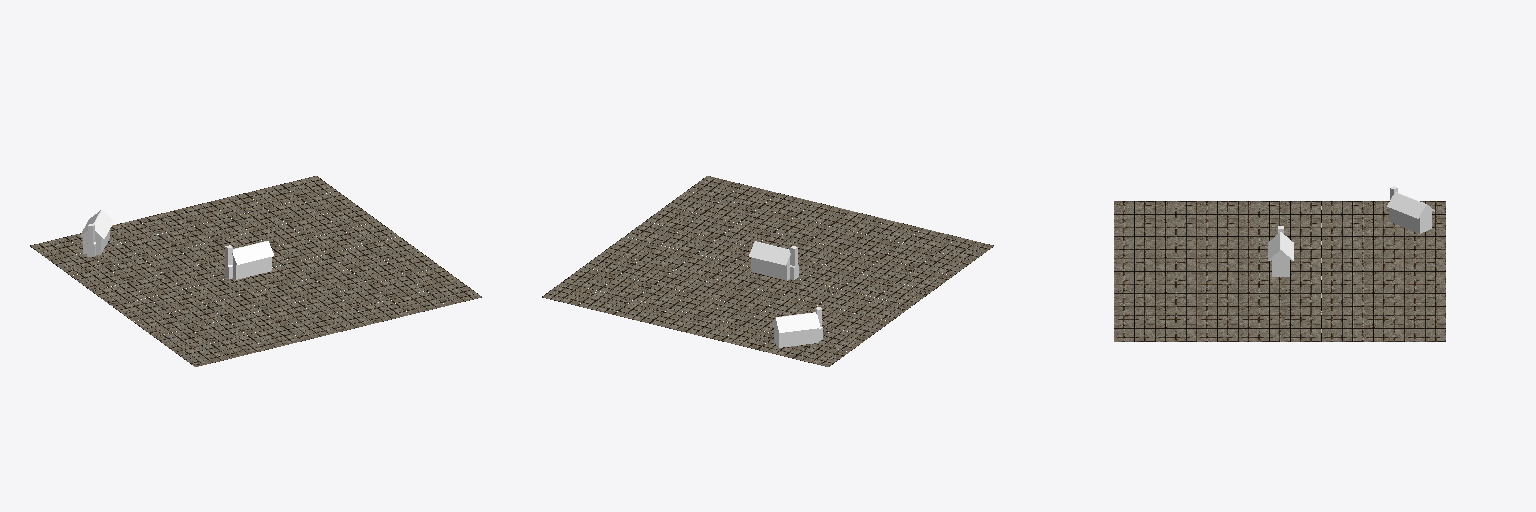
3 renders of one model, left to right at view 1: azimuth 30°, elevation 25°; view 2: azimuth 150°, elevation 25°; view 3: azimuth 270°, elevation 25°, orthographic.
Parts seen in each view (by area): view 1: mesh01, mesh00, mesh02; view 2: mesh01, mesh02, mesh00; view 3: mesh01, mesh02, mesh00.
Boxes of the visible parts, x1,y1,x2,y2 form: mesh01: [30, 176, 481, 366]; mesh00: [225, 241, 273, 279]; mesh02: [80, 210, 113, 256]; mesh01: [542, 176, 993, 366]; mesh02: [772, 307, 822, 347]; mesh00: [749, 241, 798, 280]; mesh01: [1114, 201, 1445, 341]; mesh02: [1387, 186, 1434, 233]; mesh00: [1268, 226, 1293, 276].
Size of the model in its own units: 1058 by 109 by 1059.
2 materials, 1 textured.